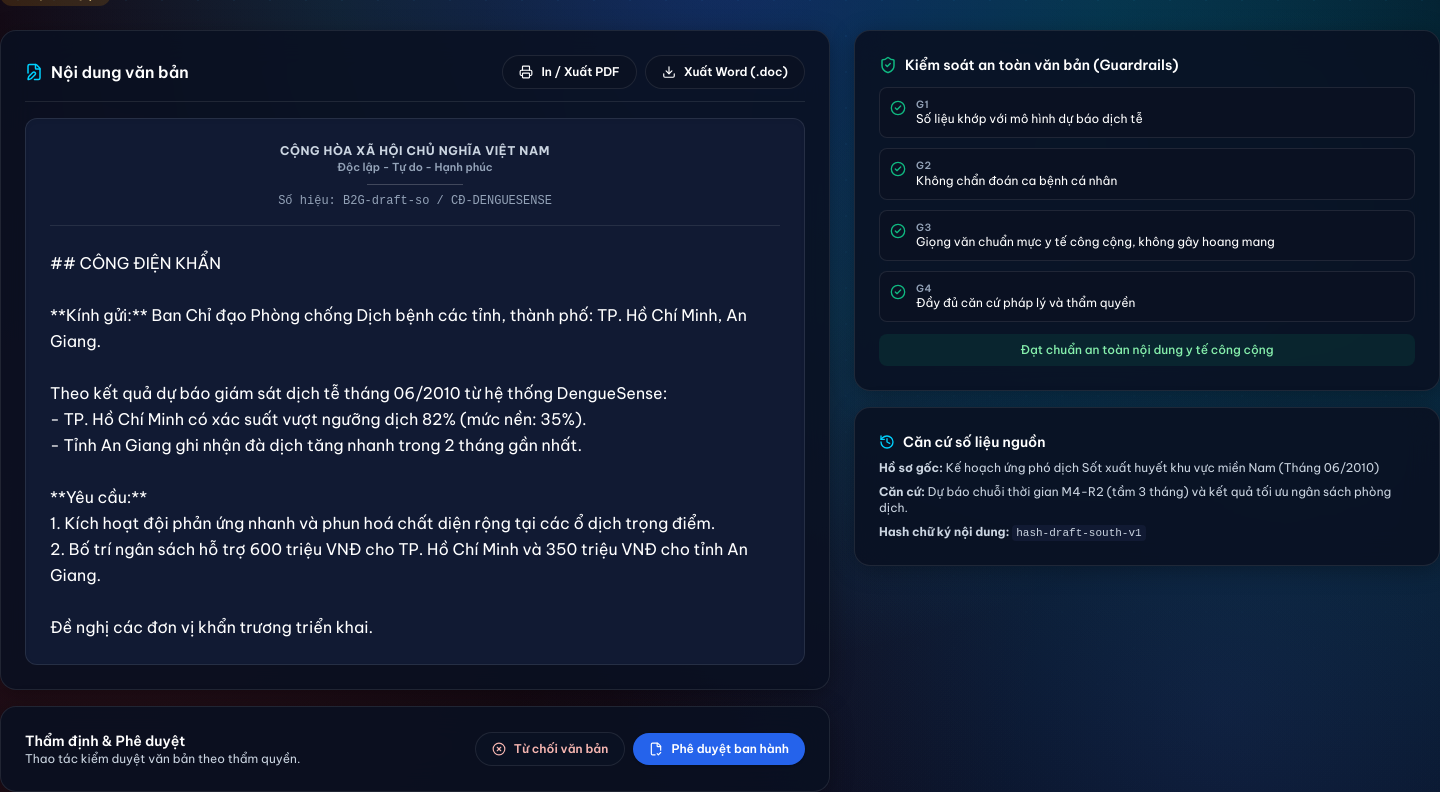
DraftPage (S9 Dự thảo & Phê duyệt, S10 Lệnh điều phối) › lãnh đạo độc lập phê duyệt văn bản thành công qua modal xác nhận
(page scrolled)
What coordinates should you click on to do the following:
click the button "Phê duyệt ban hành"
I would click on:
 (719, 748)
Its box is [633, 732, 805, 764].
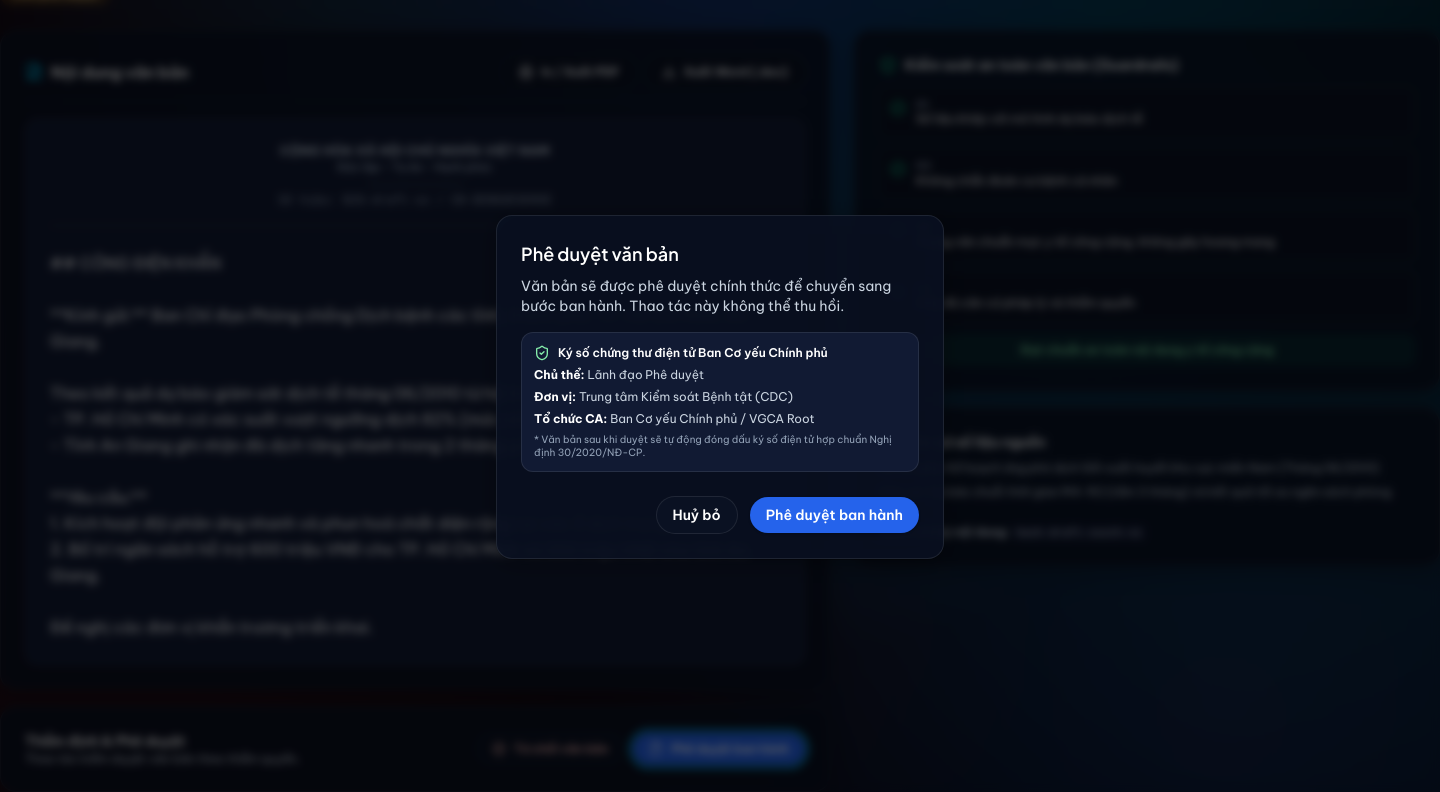
Now the heading "Phê duyệt văn bản" is shown, box [521, 242, 679, 265]
What coordinates should you click on to do the following:
click the button "Phê duyệt ban hành"
I would click on:
 (834, 515)
Its box is [750, 497, 919, 533].
(page scrolled)
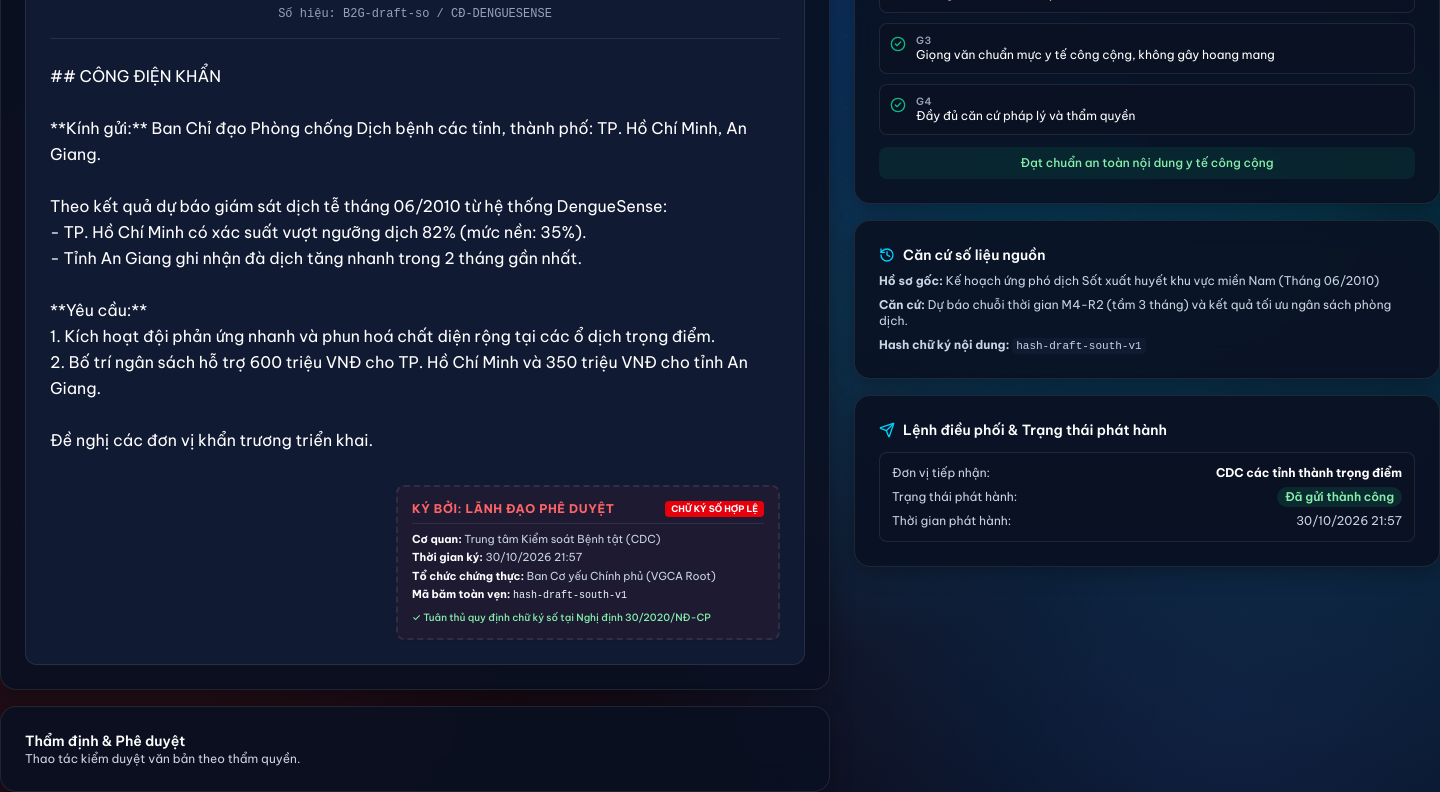
Now the dialog is gone
Now the text "Chữ ký số hợp lệ" is shown, box [665, 500, 764, 516]
Now the text "✓ Tuân thủ quy định chữ ký số tại Nghị định 30/2020/NĐ-CP" is shown, box [412, 611, 711, 624]
